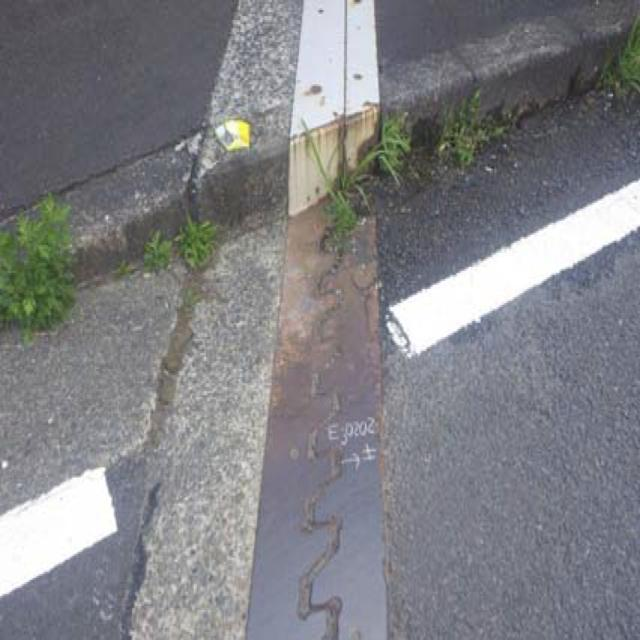corrosion: (235, 221, 406, 640)
